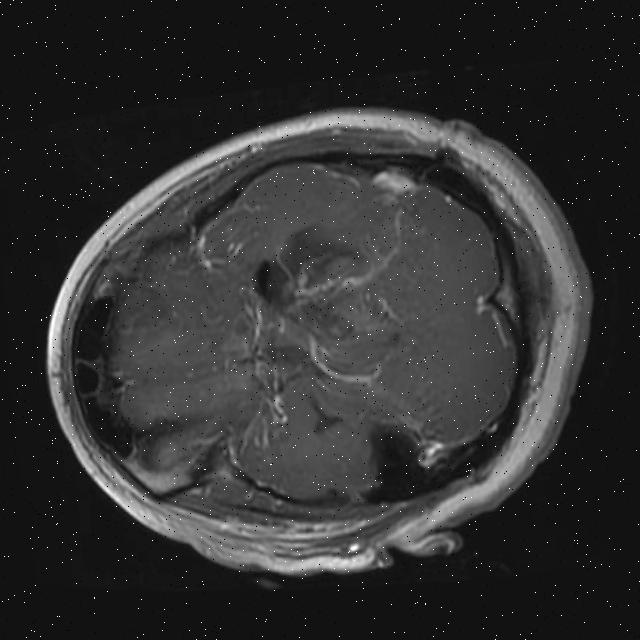Glioma: (273, 242, 394, 348)
